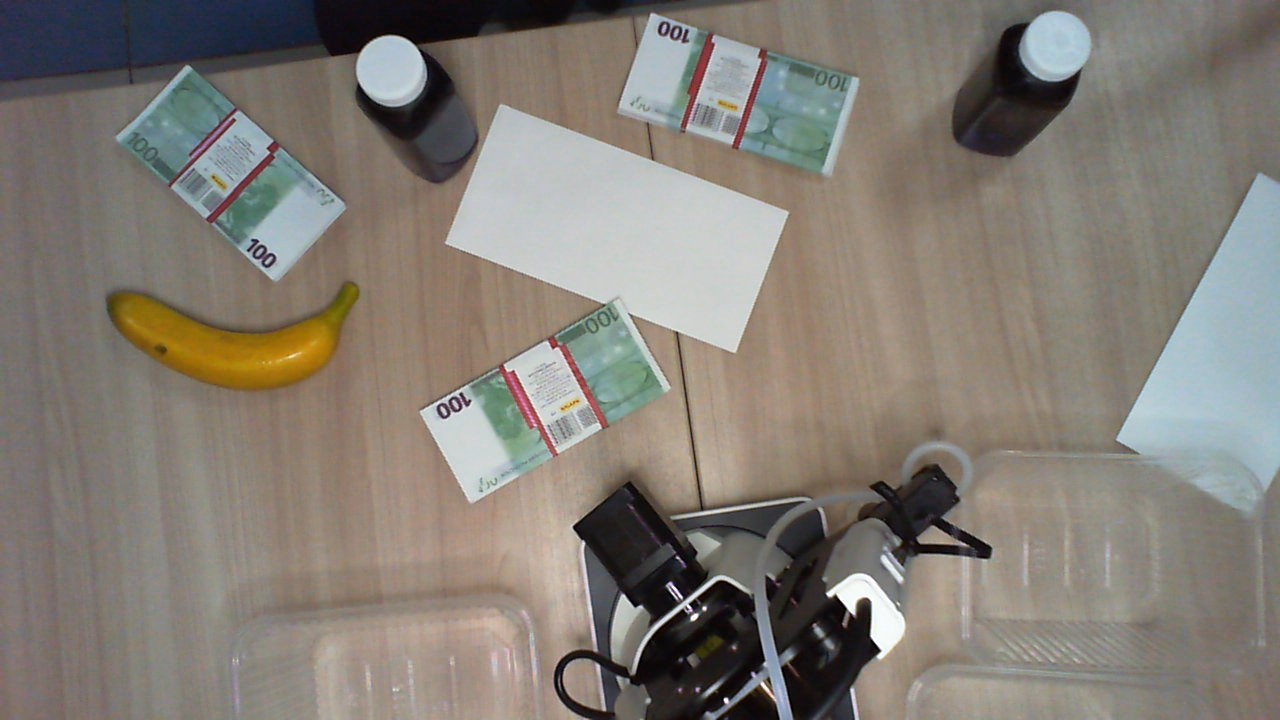banana: (104, 282, 361, 392)
bottle: (354, 35, 448, 135), (999, 7, 1094, 100)
convert: (445, 101, 792, 352), (1114, 172, 1280, 513)
money: (113, 62, 348, 284), (420, 297, 672, 504), (618, 12, 859, 181)
